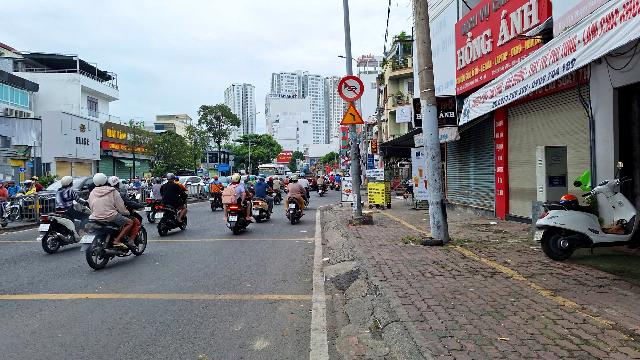cam-bop-coi: (337, 75, 364, 103)
cho-ngoat-nguy-hiem-ben-trai: (340, 103, 365, 125)
